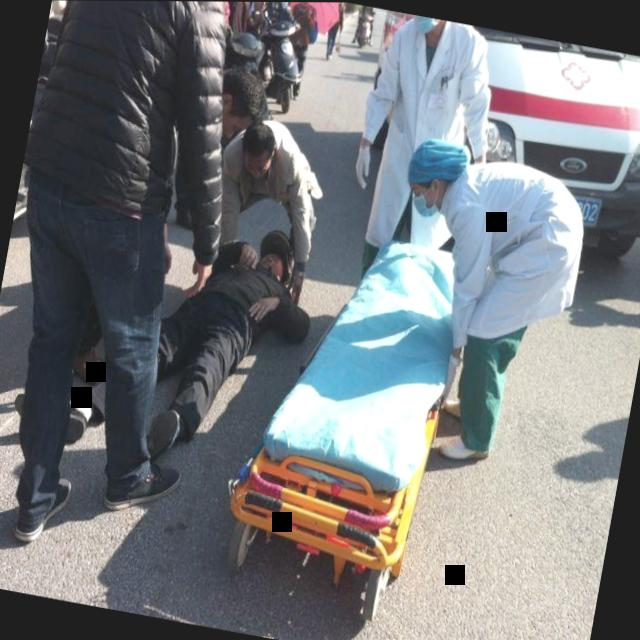Fall-Detected: (92, 190, 343, 469)
